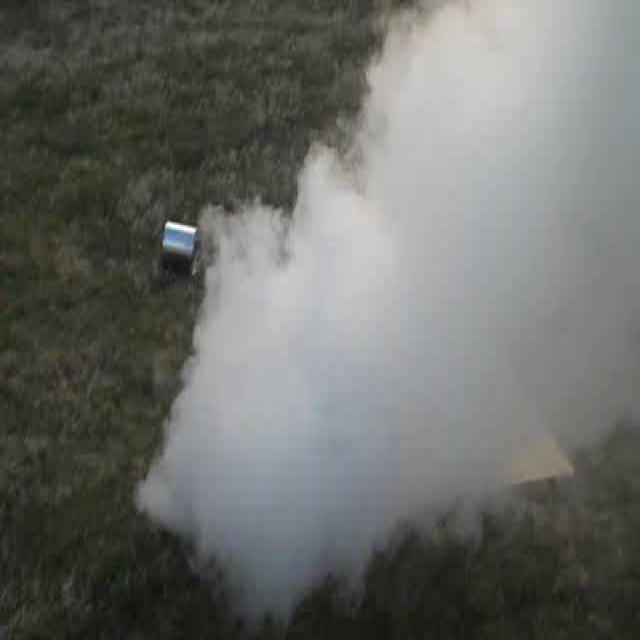Smoke: (184, 8, 638, 592)
